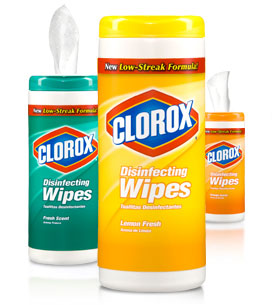Wipes: (95, 10, 208, 295), (25, 72, 100, 269), (202, 108, 248, 227)
